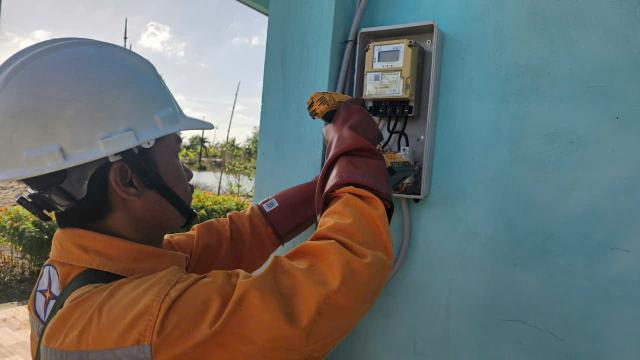gloves: (269, 151, 405, 234), (317, 90, 387, 207)
helmet: (0, 0, 236, 183)
